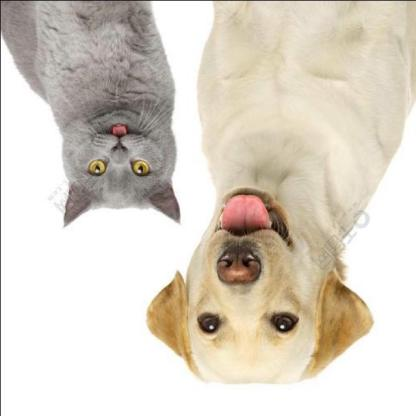cat: (16, 8, 183, 242)
dog: (171, 0, 381, 386)
